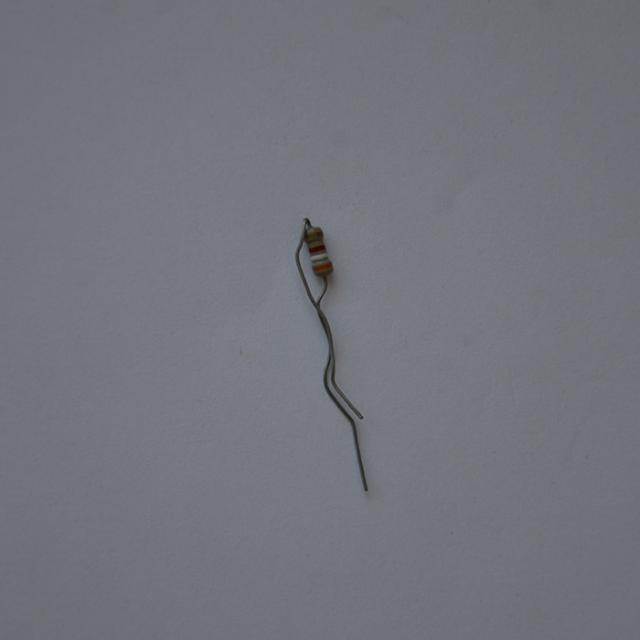gold: (304, 233, 324, 241)
orange: (313, 263, 332, 271)
red: (309, 245, 325, 252)
resistor: (293, 221, 343, 284)
white: (311, 254, 330, 260)
